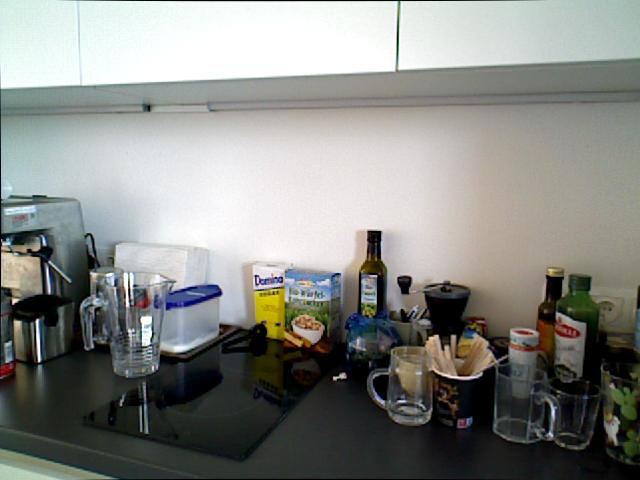bench: (553, 273, 599, 384), (536, 265, 564, 374), (357, 229, 387, 320)
bird: (289, 311, 324, 345)
handbag: (79, 271, 176, 378), (491, 362, 559, 444), (366, 345, 433, 426), (428, 353, 486, 435), (536, 377, 601, 450), (599, 361, 639, 466)
